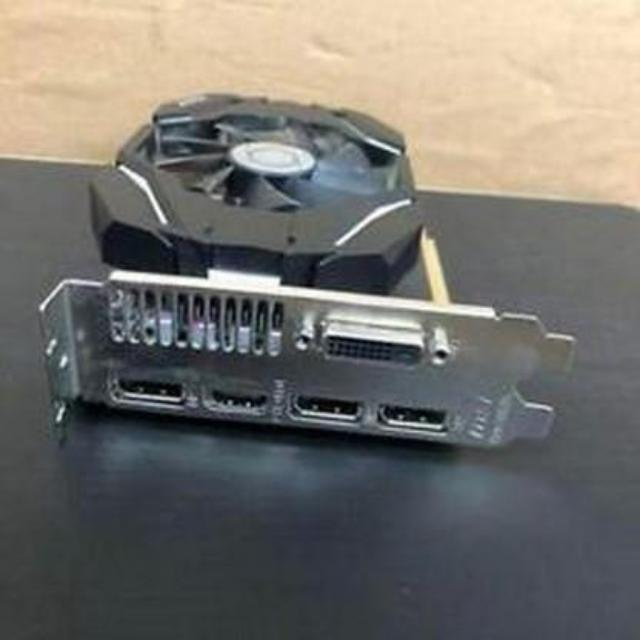GPU: (54, 77, 468, 431)
